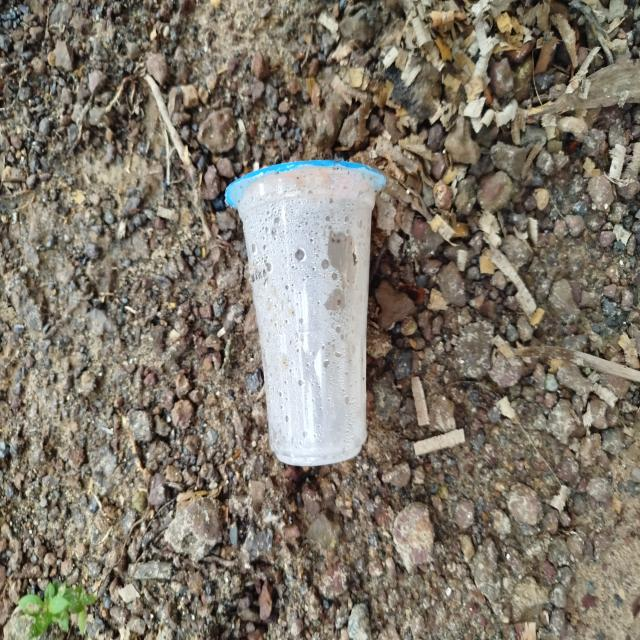plastic: (216, 152, 400, 477)
